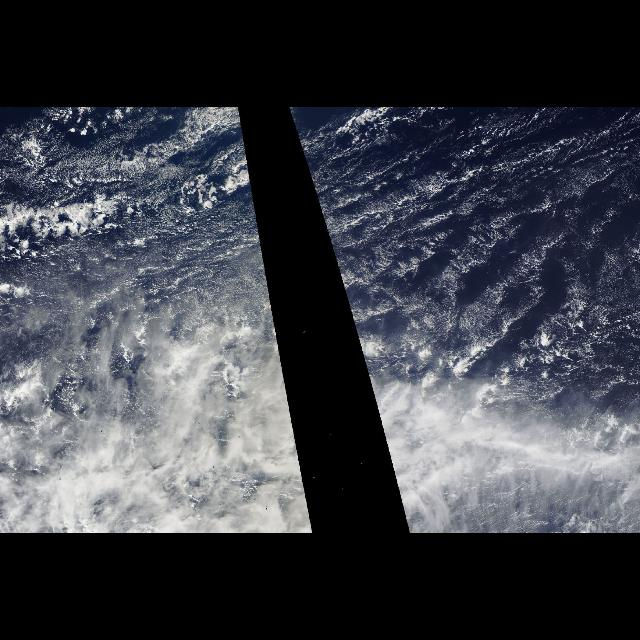Sugar: (344, 118, 636, 376)
